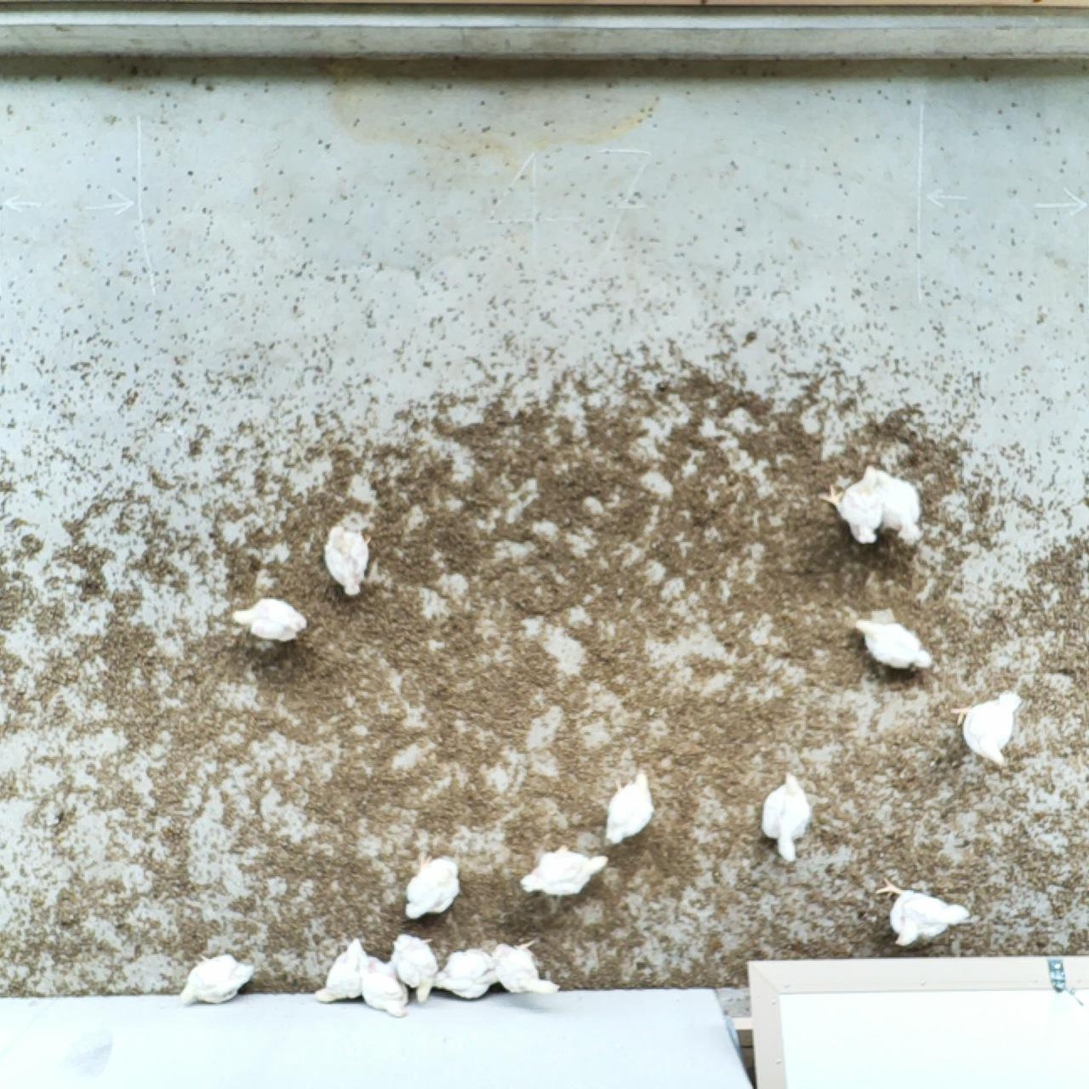chicken: (873, 874, 974, 950), (947, 687, 1026, 771), (820, 462, 891, 548), (757, 768, 815, 867), (516, 843, 609, 902), (487, 935, 566, 1000), (178, 948, 258, 1010), (602, 765, 659, 849), (853, 616, 934, 675), (401, 851, 463, 924), (872, 466, 924, 552), (229, 594, 310, 645), (323, 523, 378, 598), (432, 944, 503, 1002), (355, 948, 412, 1020), (388, 930, 442, 1005), (313, 935, 368, 1007)
